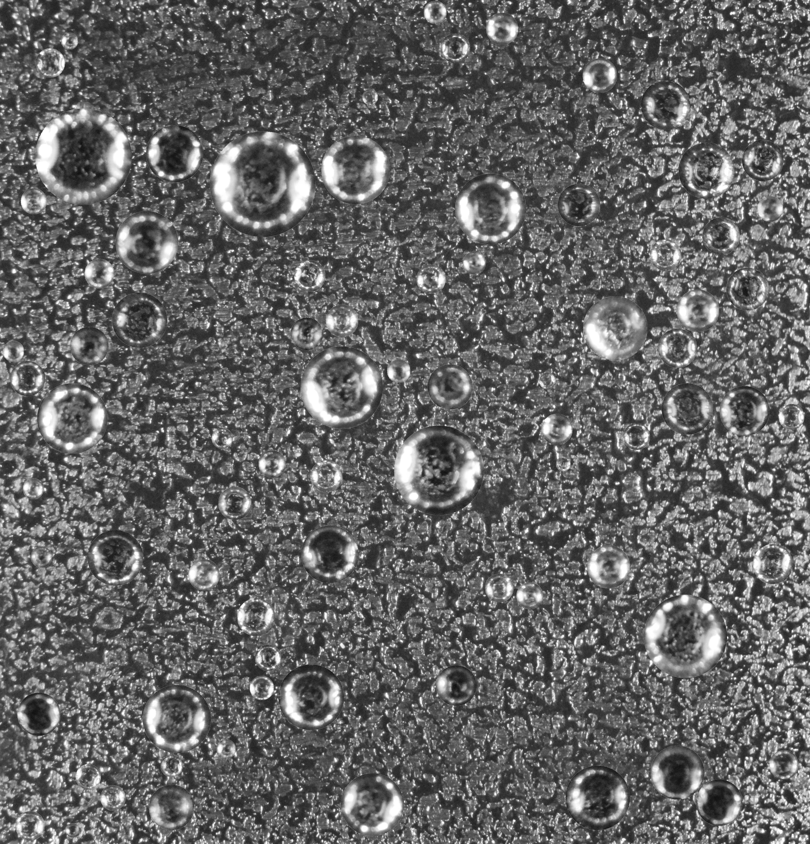Bubble: (209, 131, 315, 236), (35, 108, 131, 204), (394, 425, 483, 515), (644, 594, 727, 677), (300, 346, 382, 428), (455, 173, 526, 244), (37, 383, 107, 453), (321, 135, 389, 204), (142, 685, 210, 753), (278, 664, 343, 730), (565, 765, 629, 830), (583, 296, 647, 360), (115, 211, 178, 273), (341, 773, 403, 836), (301, 525, 358, 583), (146, 125, 203, 182), (678, 142, 734, 198), (87, 530, 143, 585), (112, 292, 167, 347), (650, 745, 704, 799), (661, 383, 713, 434), (719, 386, 769, 435), (641, 80, 690, 129), (696, 779, 742, 825), (148, 784, 194, 830), (427, 364, 472, 409), (557, 183, 600, 226), (587, 545, 630, 588), (17, 692, 60, 735), (726, 267, 769, 310), (676, 289, 719, 331), (742, 139, 783, 181), (436, 665, 476, 705), (753, 544, 792, 584), (658, 328, 697, 367), (70, 326, 108, 365), (237, 598, 275, 636), (702, 217, 739, 254), (10, 361, 45, 396), (582, 58, 617, 92), (290, 317, 323, 350), (218, 486, 251, 519), (325, 304, 358, 336), (649, 239, 681, 271), (486, 12, 518, 44), (310, 460, 342, 492), (294, 260, 325, 291), (188, 559, 219, 590), (541, 413, 572, 444), (84, 258, 114, 288), (440, 33, 470, 62), (15, 811, 44, 840), (769, 750, 798, 779), (416, 264, 445, 293), (35, 48, 64, 77), (485, 573, 513, 602), (516, 582, 543, 609), (258, 450, 285, 477), (623, 423, 650, 449), (255, 644, 281, 670), (20, 188, 46, 214), (757, 196, 783, 221), (778, 404, 804, 429), (100, 785, 125, 810), (75, 764, 100, 789), (249, 676, 273, 700), (423, 0, 446, 23), (462, 251, 485, 274), (387, 359, 410, 382), (160, 755, 182, 777), (22, 478, 43, 499), (2, 340, 23, 361), (30, 546, 51, 567), (211, 427, 232, 448), (216, 739, 235, 758), (539, 372, 556, 389), (61, 32, 77, 49), (362, 89, 377, 104), (556, 456, 570, 471), (65, 823, 79, 837)
